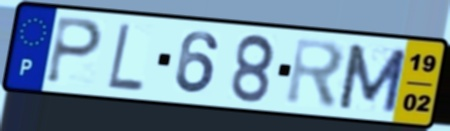6: (174, 30, 220, 97)
8: (229, 32, 276, 104)
L: (105, 21, 146, 94)
M: (334, 41, 410, 115)
P: (42, 14, 105, 87)
R: (283, 35, 348, 112)
